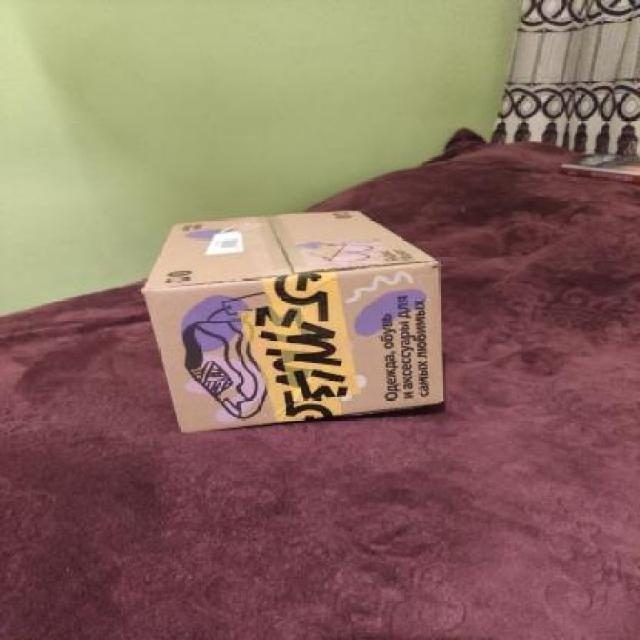box: (143, 208, 447, 441)
